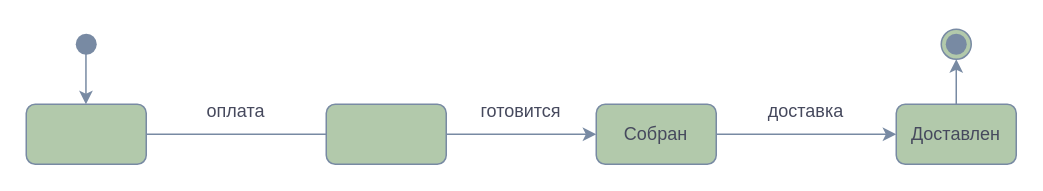
The diagram is 1043 pixels wide and 191 high, and some of its shapes have lost their labels. The shapes that lost their labels are listed below. From the top down, each one's box as (x1, y1, x2, y2) in pixels, then its label:
(25, 103, 146, 164): Оформлен
(325, 103, 446, 164): Оплачен
